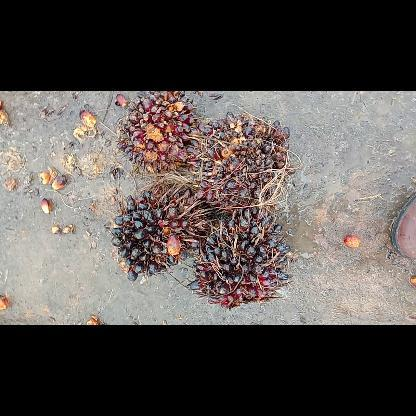TBS abnormal: (105, 180, 215, 284), (187, 208, 299, 308)
TBS masak: (185, 109, 299, 215), (112, 90, 206, 176)
